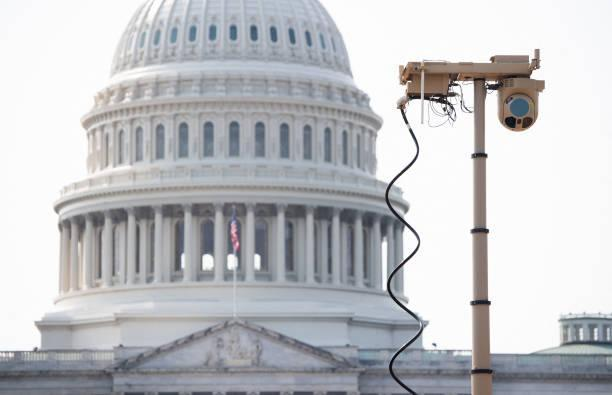camera: (483, 44, 551, 137)
